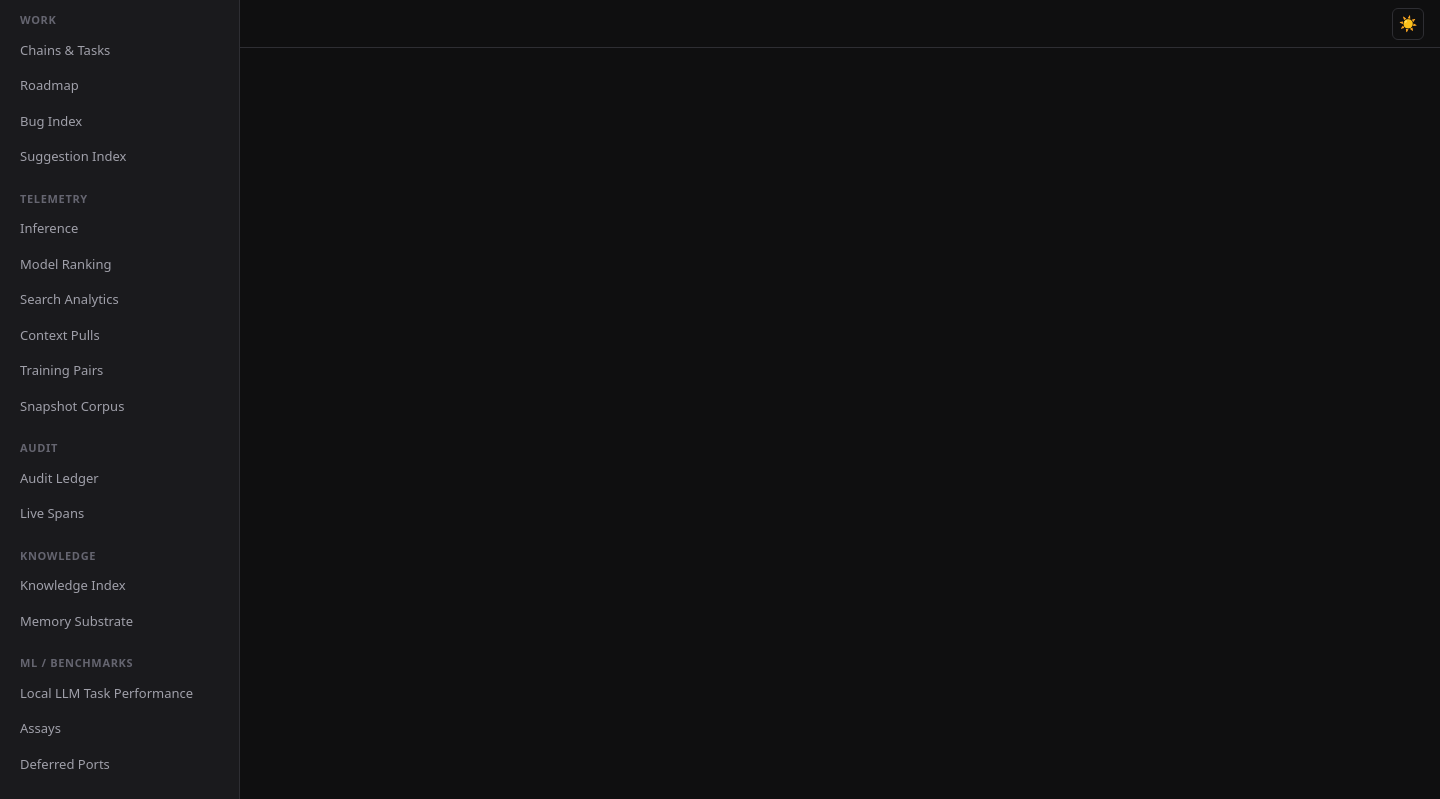
Test: theme toggle — after two clicks › sun icon returns after toggling back to dark
Click the button with test id "theme-toggle": (1408, 24) [1392,8,1424,40]
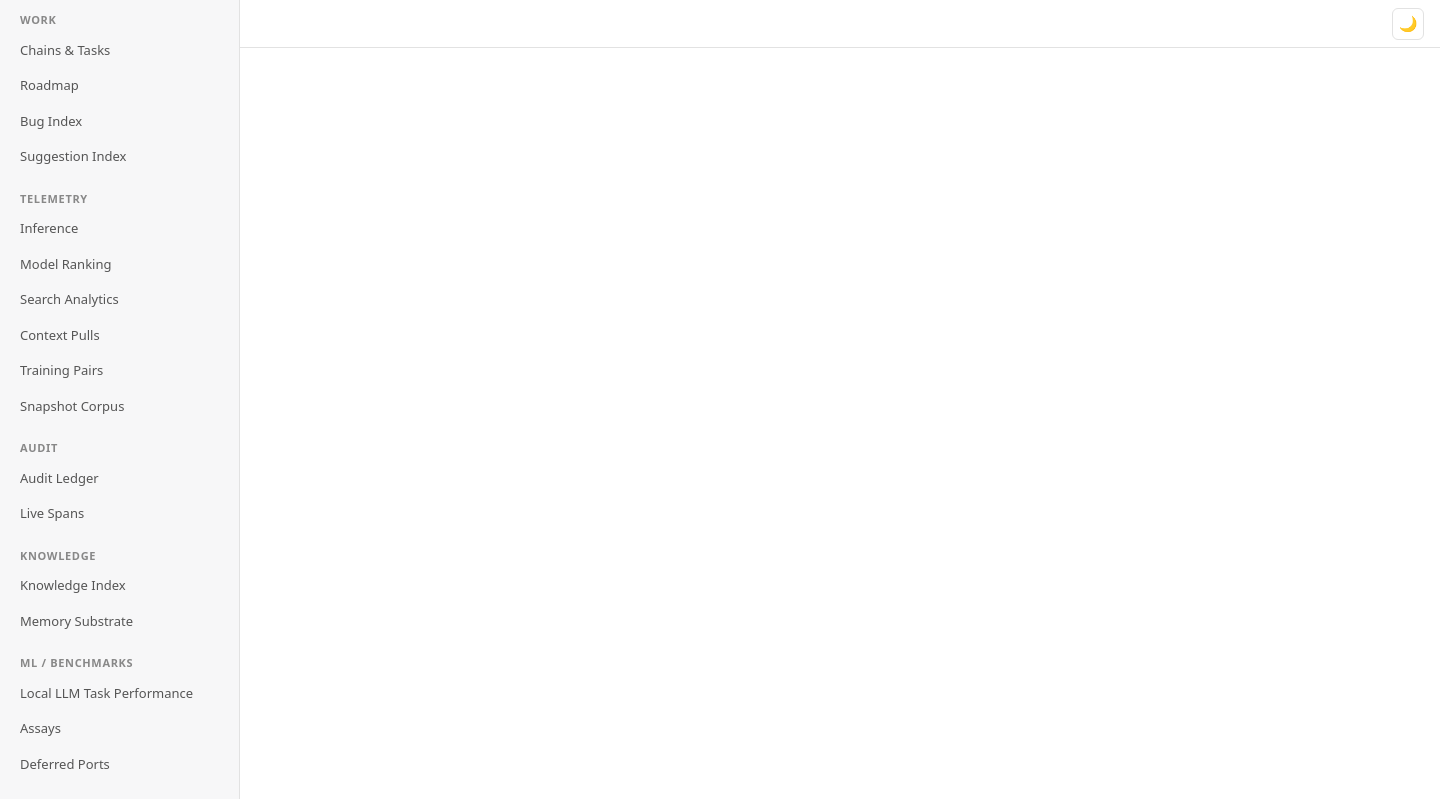
Click the button with test id "theme-toggle": (1408, 24) [1392,8,1424,40]
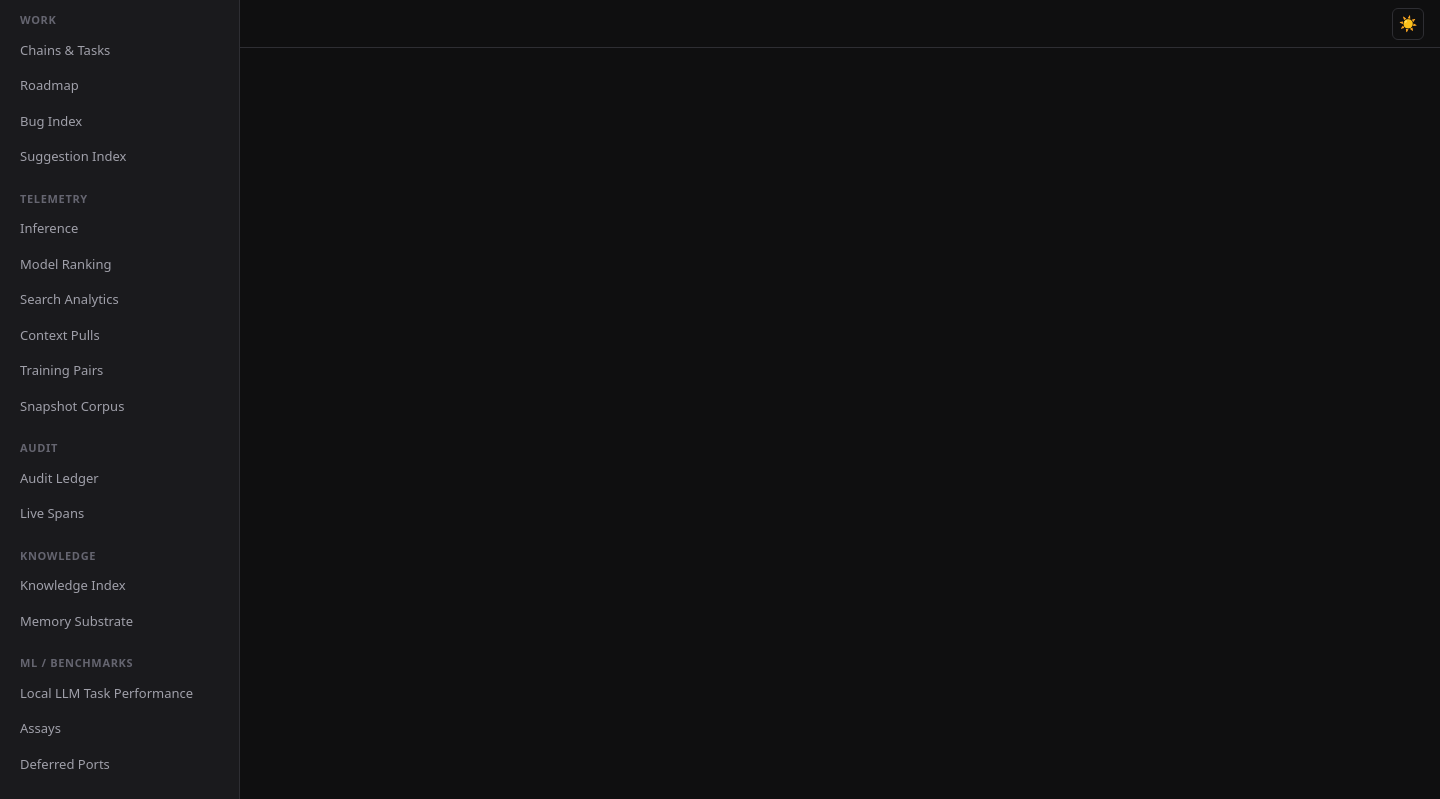
Check: the button with test id "theme-toggle" reads "☀️", box [1392,8,1424,40]
